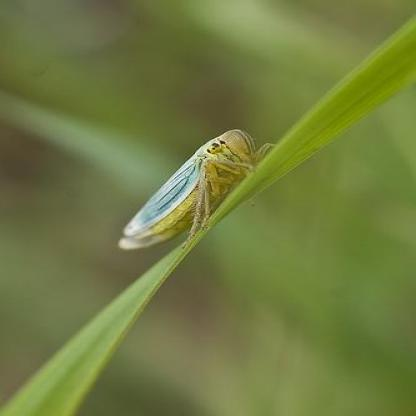Green-Leafhopper: (114, 125, 275, 255)
